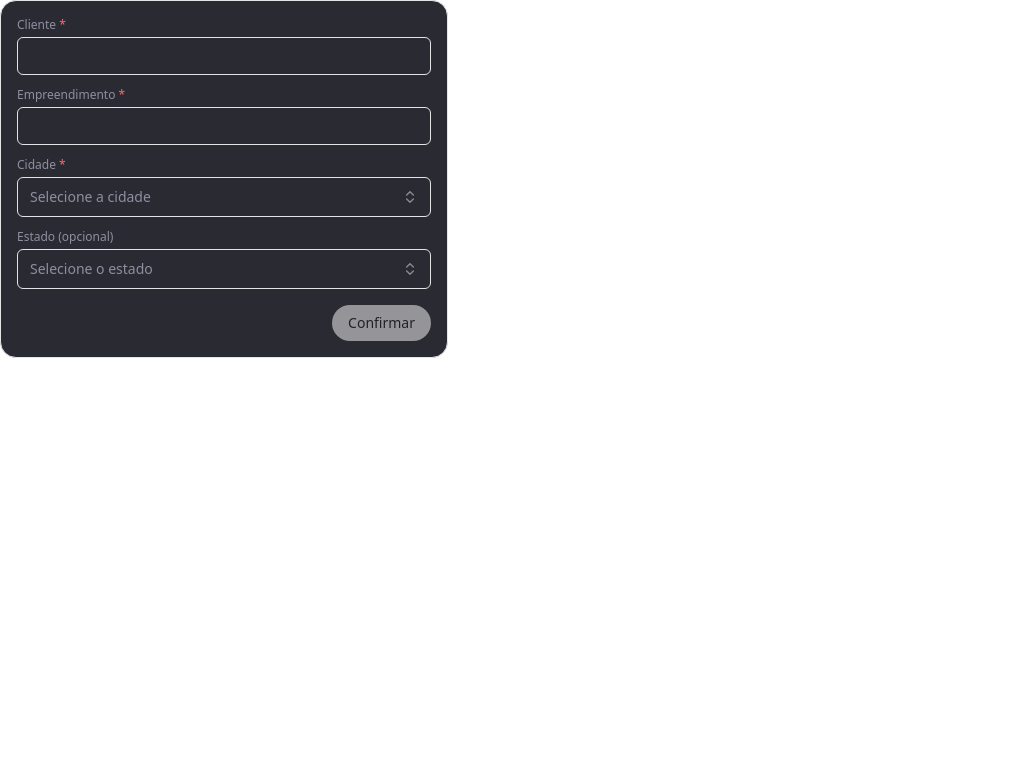
Test: <MetadataForm /> › selecting city autofills the estado combobox label
The image size is (1024, 768).
Click the dropdown labelled "Selecione a cidade".
click(90, 196)  # box [17,177,431,217]
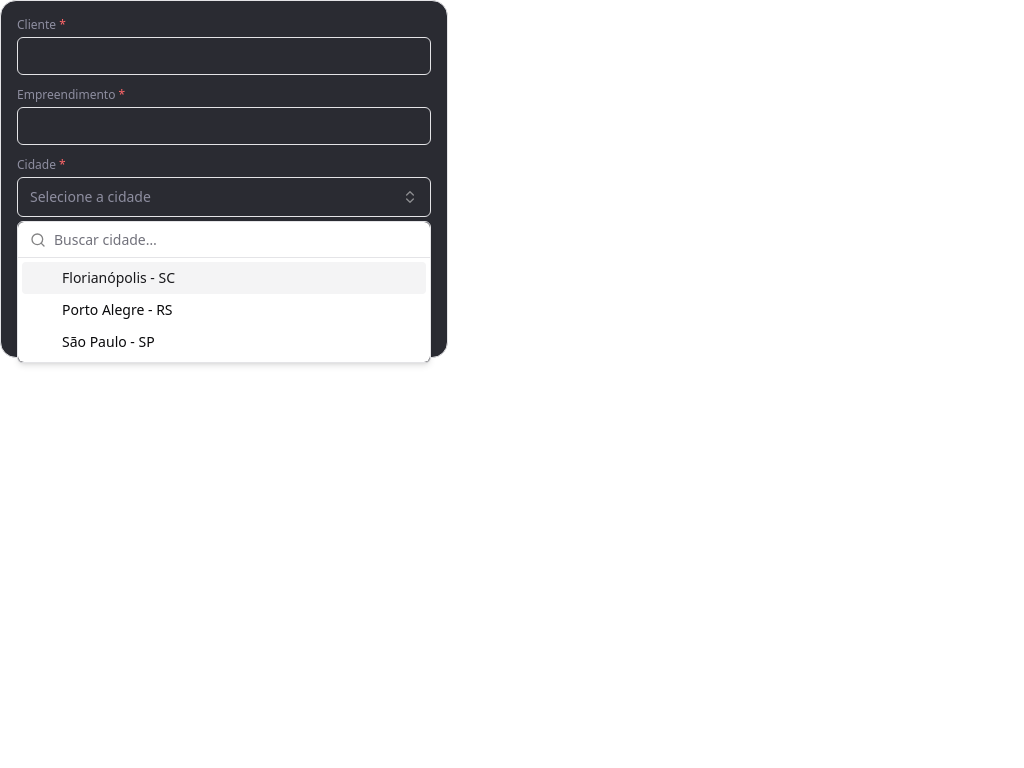
Click the option "Florianópolis - SC".
click(119, 278)  # box [22,262,426,294]
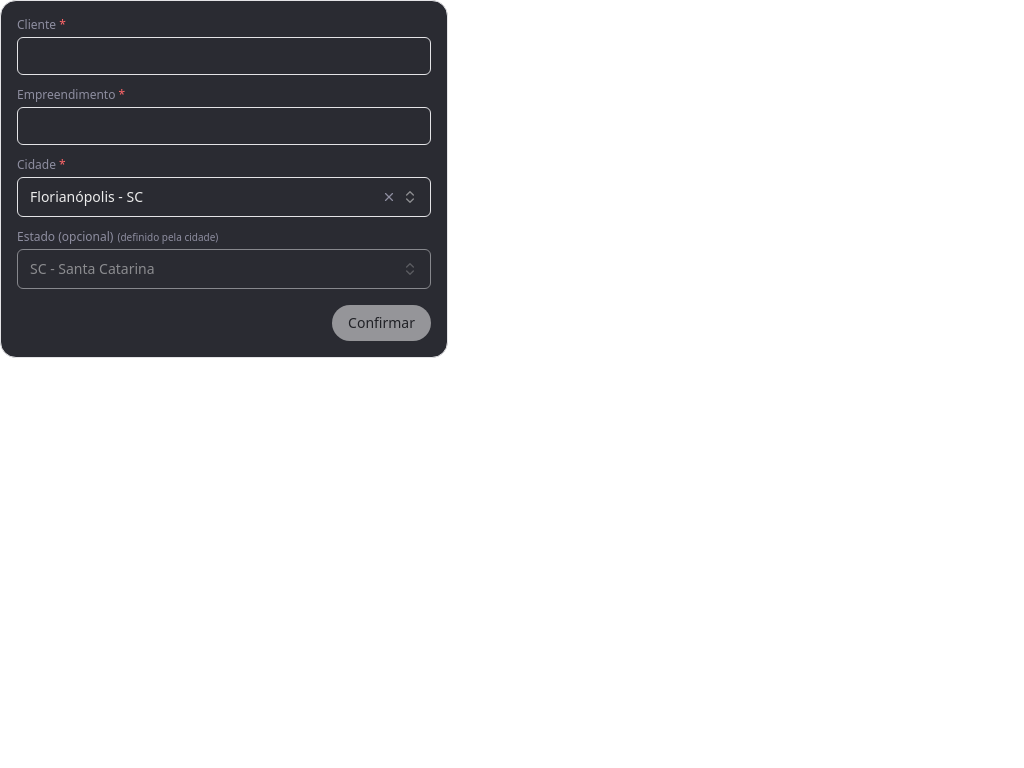
Check: the dropdown named "estado" reads "SC - Santa Catarina", box [17,249,431,289]
